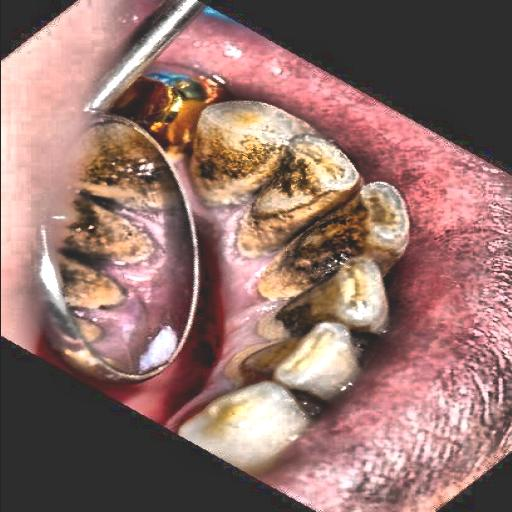Calculus: (180, 129, 418, 338)
